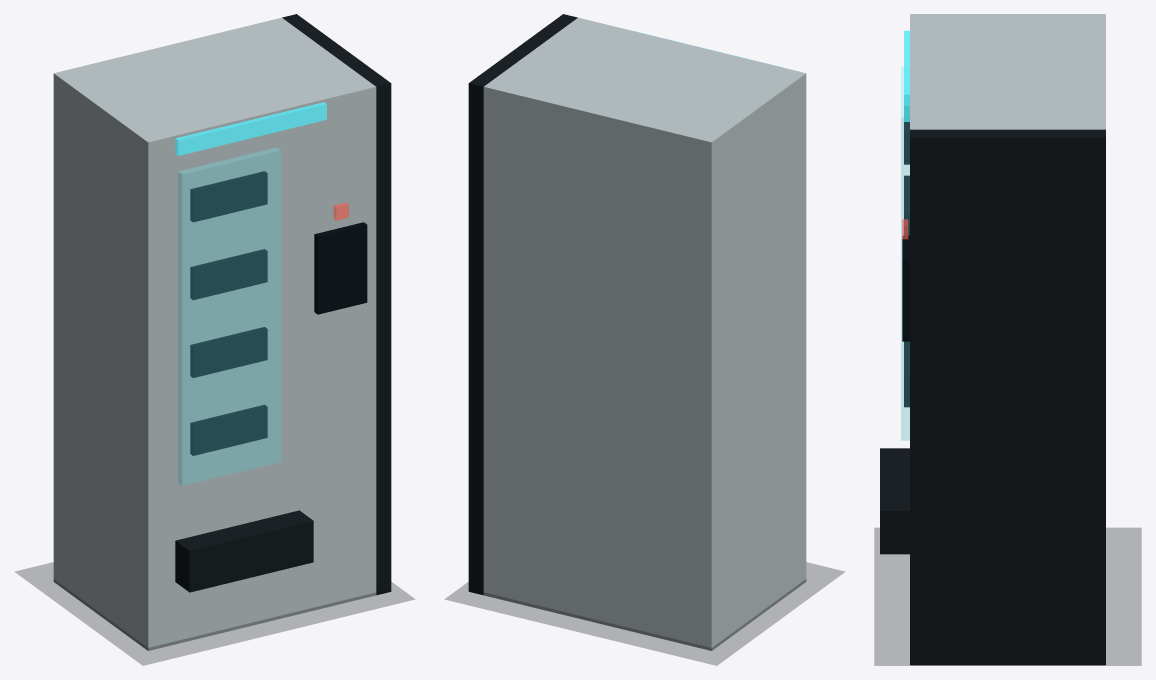
File: hp_room_cyber_vending_unit.glb
3 views of the same model, side by side, from view 1: azimuth 30°, elevation 25°; view 2: azimuth 150°, elevation 25°; view 3: azimuth 270°, elevation 25° (orthographic). The views are drawn at different scales.
Parts seen in each view (by area): view 1: shell, window_column, side_armor, dispense_tray, contact_shadow, keypad, brand_cyan, cartridge_3, cartridge_1, cartridge_0, cartridge_2; view 2: shell, side_armor, contact_shadow; view 3: side_armor, shell, contact_shadow, dispense_tray, window_column, keypad, brand_cyan.
Part boxes in pixels (bbox=[...]): shell: bbox=[53, 17, 376, 650]; window_column: bbox=[178, 147, 280, 485]; side_armor: bbox=[282, 14, 391, 595]; dispense_tray: bbox=[175, 510, 313, 592]; contact_shadow: bbox=[15, 562, 414, 665]; keypad: bbox=[314, 222, 367, 314]; brand_cyan: bbox=[175, 102, 326, 155]; cartridge_3: bbox=[190, 171, 267, 222]; cartridge_1: bbox=[190, 327, 267, 377]; cartridge_0: bbox=[190, 404, 267, 455]; cartridge_2: bbox=[190, 249, 267, 300]; shell: bbox=[483, 17, 806, 650]; side_armor: bbox=[468, 14, 577, 595]; contact_shadow: bbox=[445, 562, 844, 665]; side_armor: bbox=[910, 129, 1105, 665]; shell: bbox=[910, 14, 1105, 129]; contact_shadow: bbox=[874, 528, 1141, 665]; dispense_tray: bbox=[880, 448, 909, 554]; window_column: bbox=[901, 67, 909, 440]; keypad: bbox=[902, 235, 909, 341]; brand_cyan: bbox=[904, 30, 909, 121].
Bounding box in the file's own units: 1.1 × 1.96 × 0.9.
